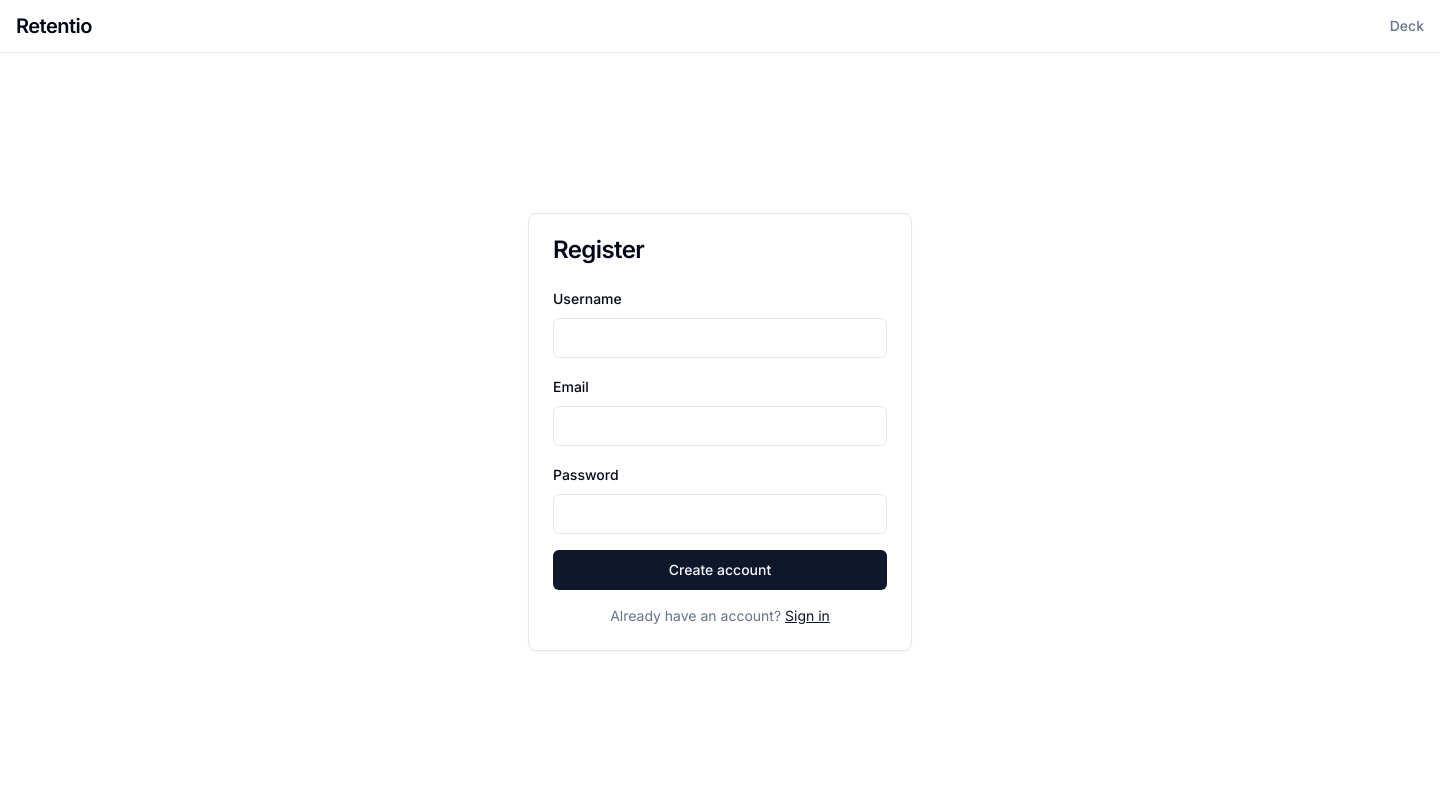
RegisterPage › disables the button and shows loading text while submitting
In the field labelled "Username": {"x": 720, "y": 338} [553, 318, 887, 358], type "alice"
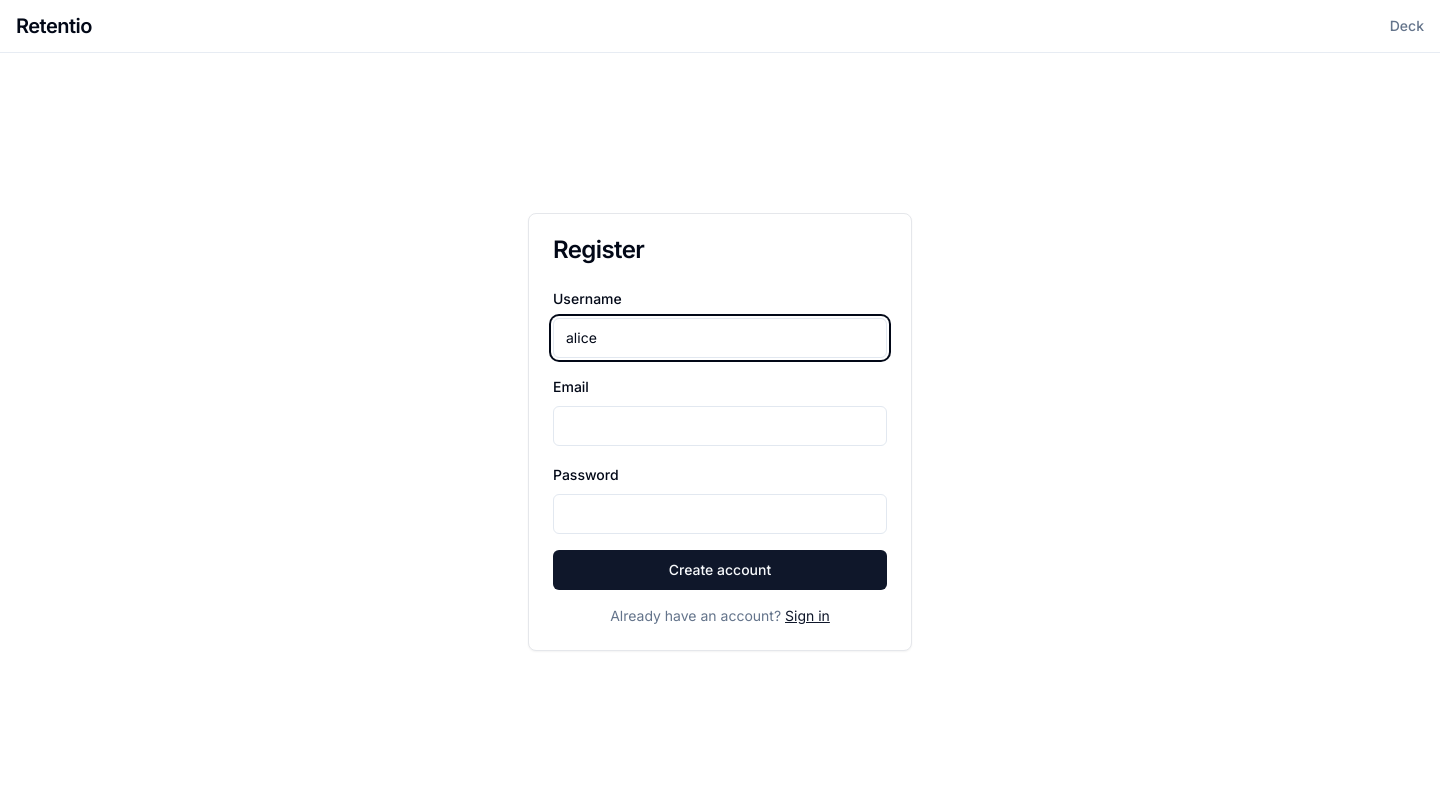
In the field labelled "Email": {"x": 720, "y": 426} [553, 406, 887, 446], type "alice@example.com"
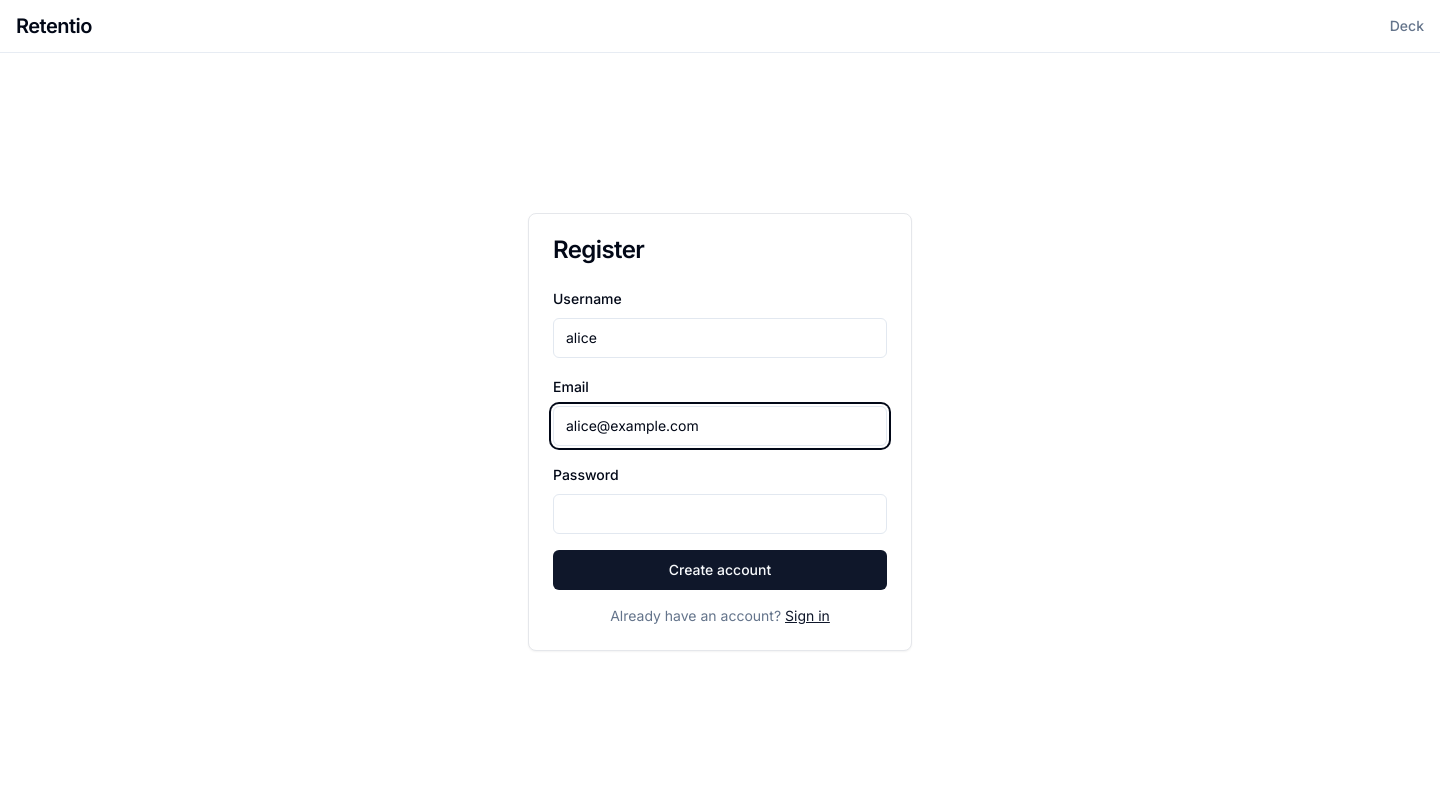
In the password field labelled "Password": {"x": 720, "y": 514} [553, 494, 887, 534], type "secret12"
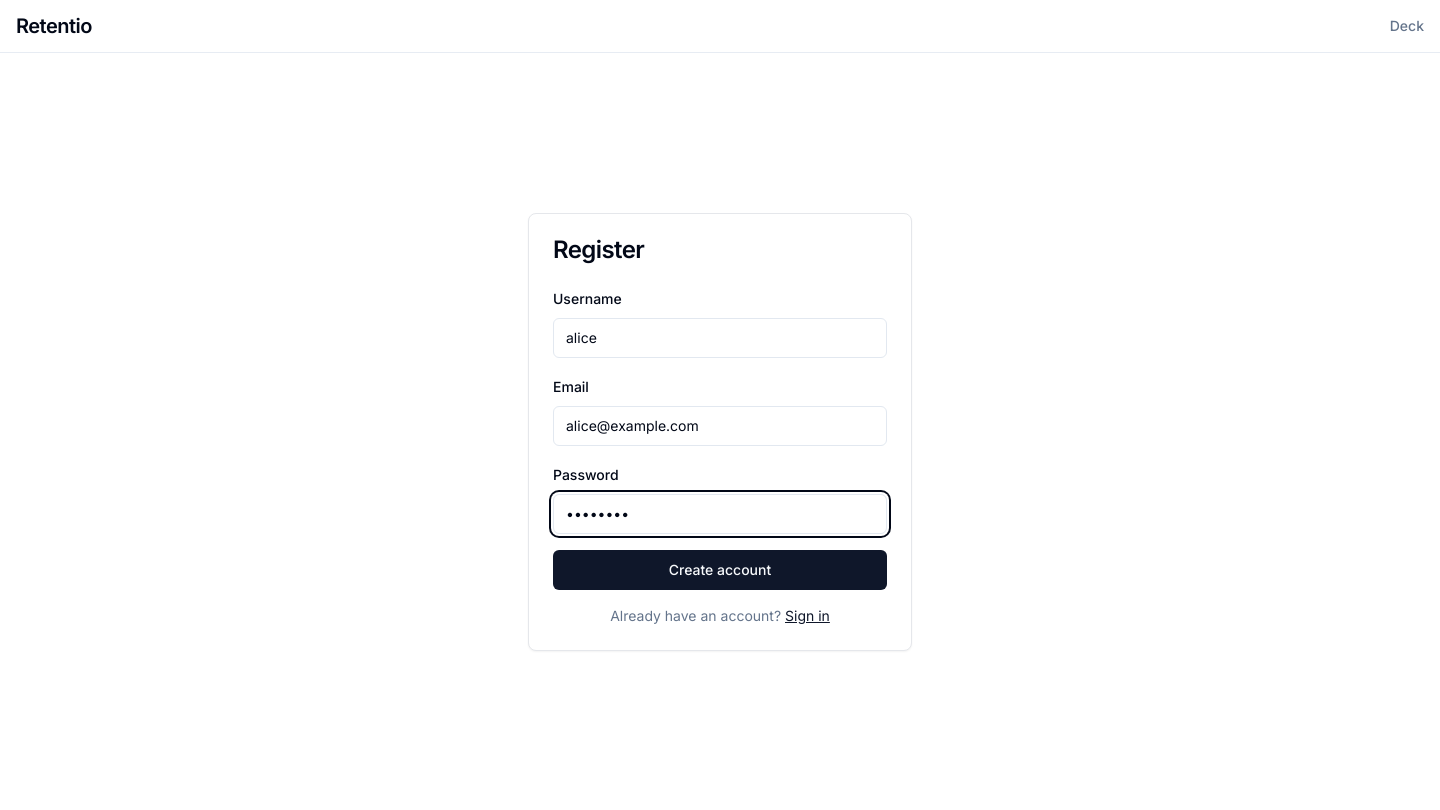
Click the button "Create account": {"x": 720, "y": 570} [553, 550, 887, 590]
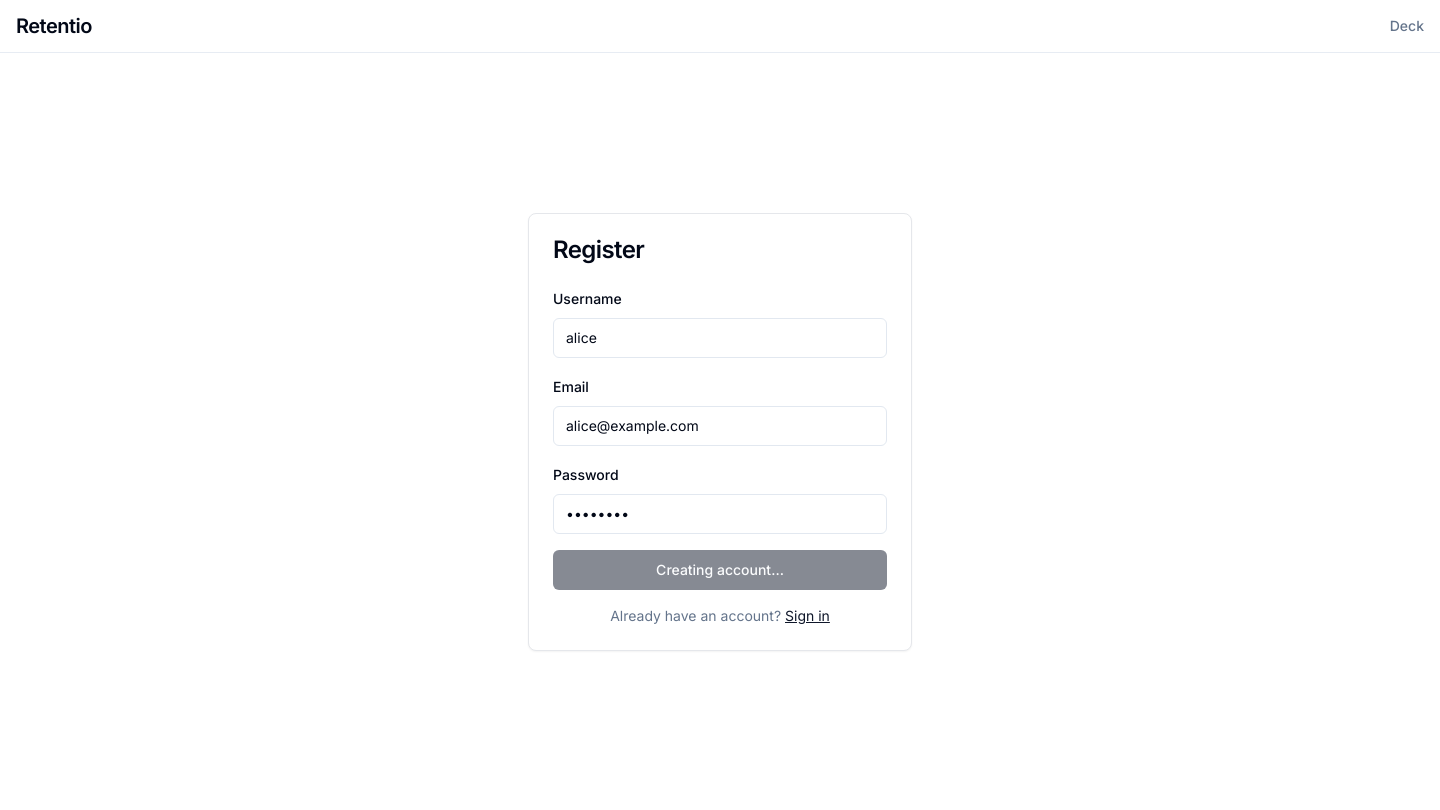
Result: the button "Creating account…" is disabled at [553, 550, 887, 590]
